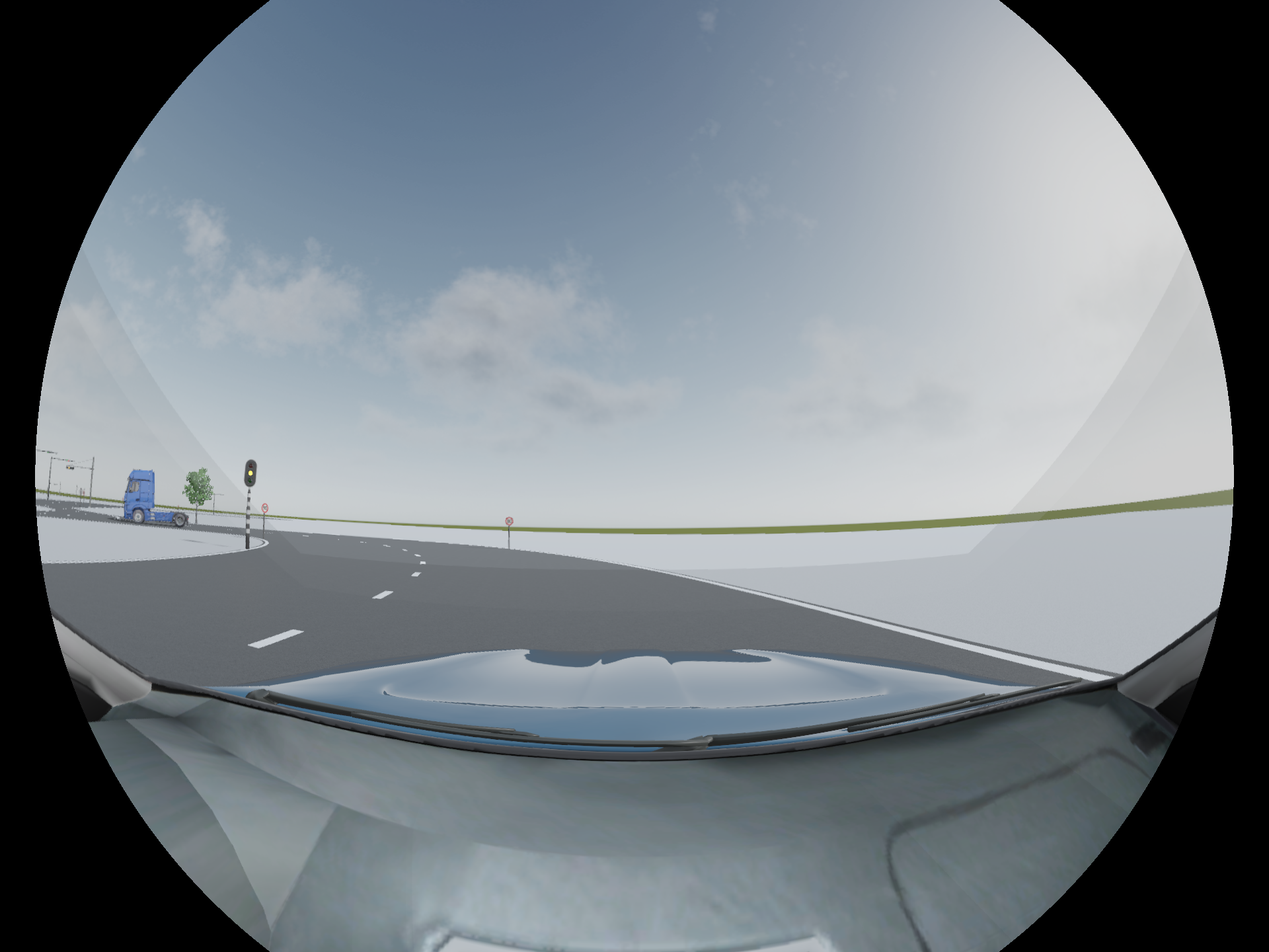Speed Limit 80: (506, 517, 514, 525)
Speed Limit 90: (262, 504, 269, 512)
